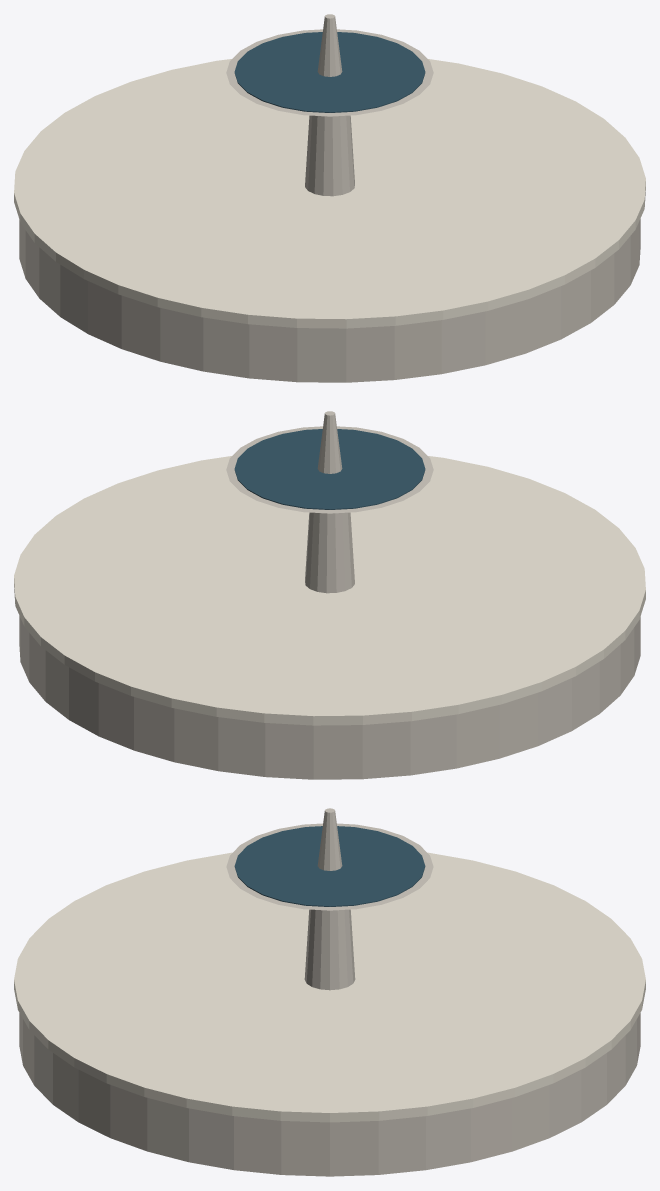
The model's file is Fountain.glb.
3 views of the same model, one above another, from view 1: azimuth 30°, elevation 25°; view 2: azimuth 150°, elevation 25°; view 3: azimuth 270°, elevation 25° (orthographic).
Parts seen in each view (by area): view 1: Fountain; view 2: Fountain; view 3: Fountain.
Part boxes in pixels (box(x1,y1,x2,y2)): Fountain: box(14, 14, 645, 382); Fountain: box(14, 411, 645, 779); Fountain: box(14, 808, 645, 1176).
Bounding box in the file's own units: 6.1 × 2.5 × 6.1.
